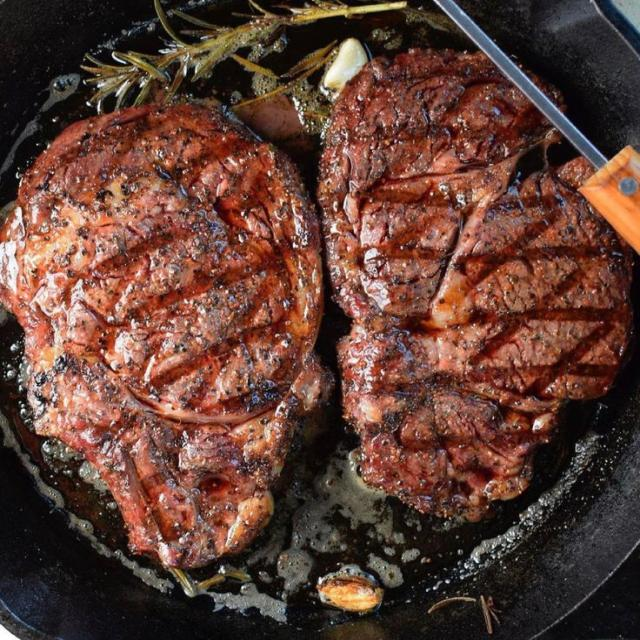beef steak: (0, 103, 327, 568), (317, 50, 632, 517)
